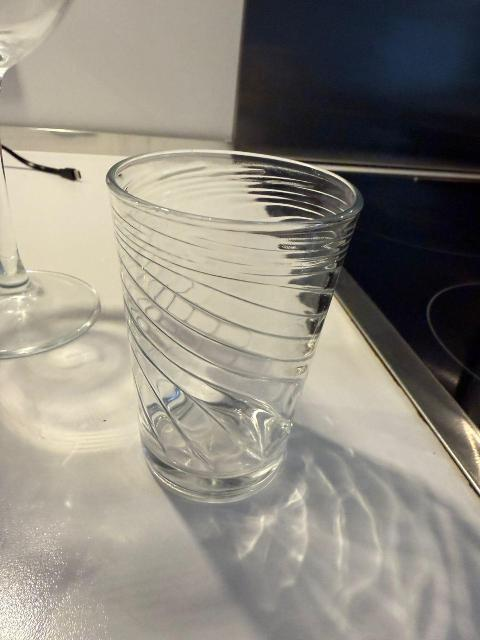Cam: (103, 149, 362, 504)
